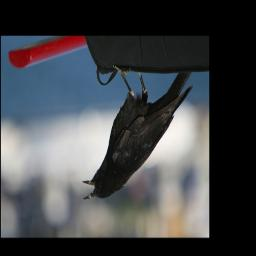Crow: (80, 61, 194, 203)
